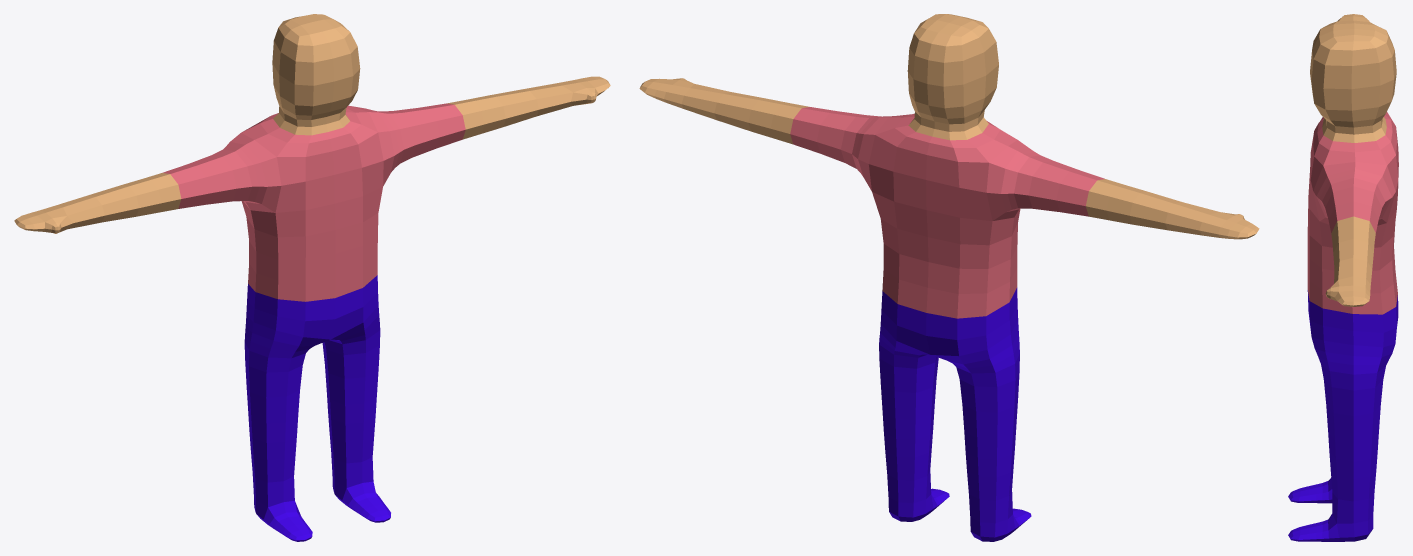
Rendered from riggedHuman.fbx.
3 views of the same model, side by side, from view 1: azimuth 30°, elevation 25°; view 2: azimuth 150°, elevation 25°; view 3: azimuth 270°, elevation 25° (orthographic). The views are drawn at different scales.
Visible parts, largest first — view 1: Cube; view 2: Cube; view 3: Cube.
Part boxes in pixels (bbox=[...]): Cube: bbox=[14, 14, 610, 541]; Cube: bbox=[639, 14, 1259, 541]; Cube: bbox=[1288, 14, 1398, 541].
Bounding box in the file's own units: 251 × 40.5 × 198.
